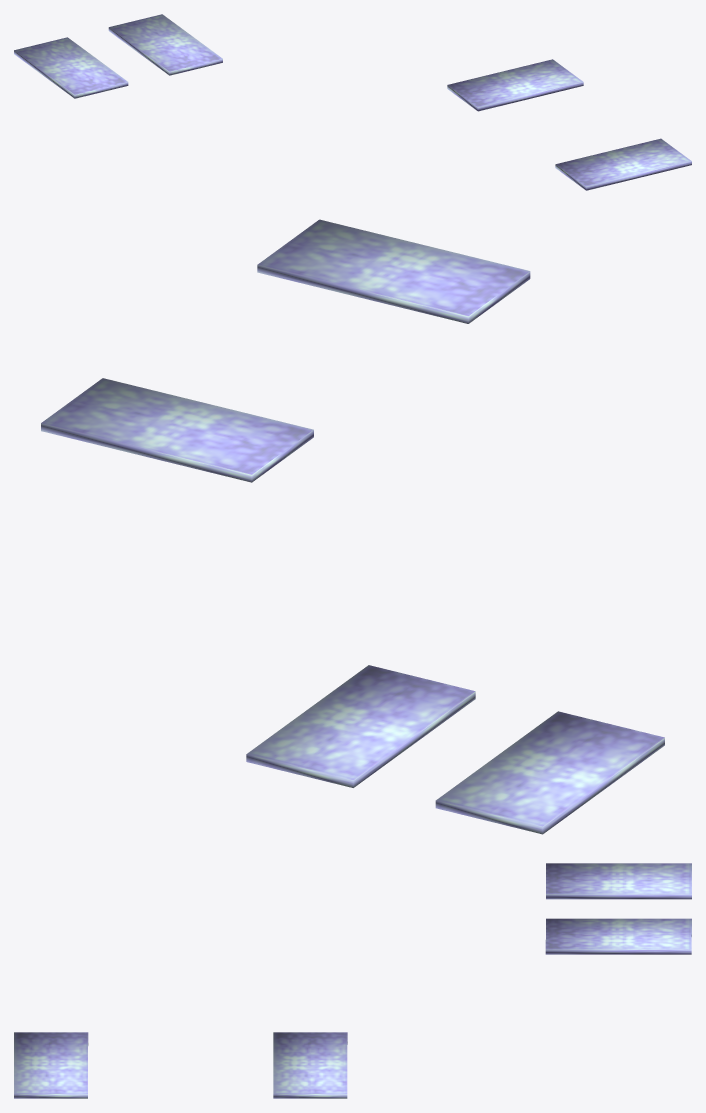
Rendered from carpet_market.dae.
3 renders of one model, top to bottom at view 1: azimuth 30°, elevation 25°; view 2: azimuth 150°, elevation 25°; view 3: azimuth 270°, elevation 25°, orthographic. The views are drawn at different scales.
Visible parts, largest first — view 1: market.001; view 2: market.001; view 3: market.001.
Boxes of the visible parts, left/top/right/bottom form: market.001: left=14, top=14, right=691, bottom=190; market.001: left=41, top=219, right=664, bottom=834; market.001: left=14, top=863, right=691, bottom=1098.
Size of the model in its own units: 21 by 26.06 by 0.1988.
